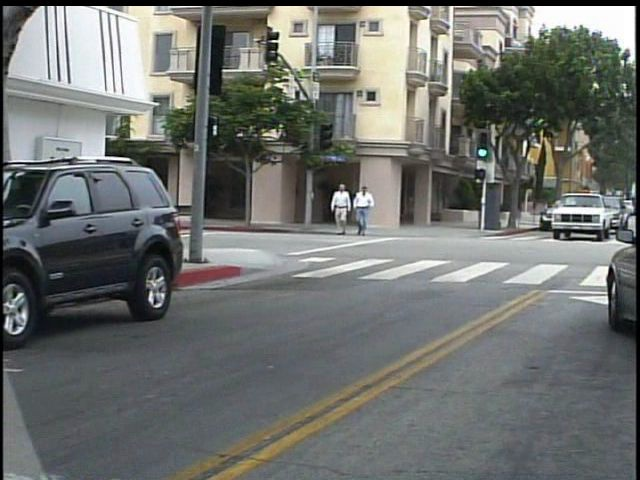person: (357, 182, 383, 240), (336, 180, 360, 242)
